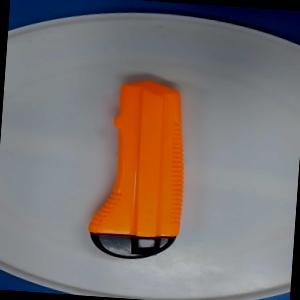estilete: (86, 76, 192, 262)
